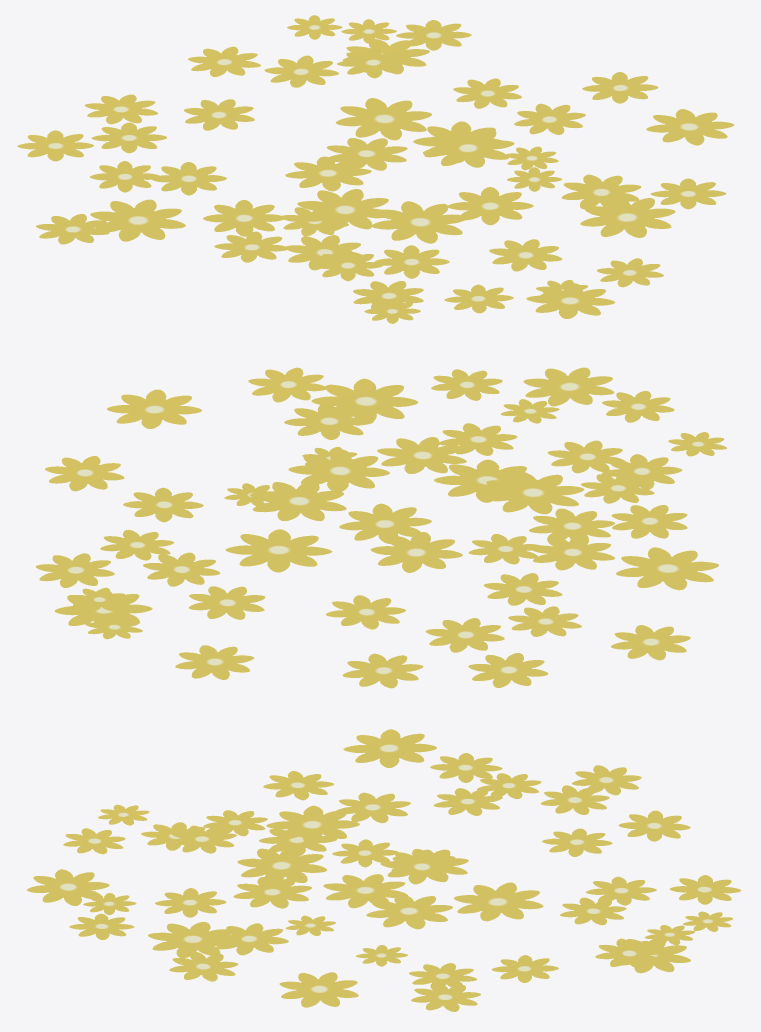
Rendered from Flower_04.fbx.
The picture shows the model from 3 angles, top to bottom: view 1: azimuth 30°, elevation 25°; view 2: azimuth 150°, elevation 25°; view 3: azimuth 270°, elevation 25°; orthographic projection. The views are drawn at different scales.
Parts seen in each view (by area): view 1: Flower_04_LOD0; view 2: Flower_04_LOD0; view 3: Flower_04_LOD0.
Part boxes in pixels (x1,y1,x2,y2): Flower_04_LOD0: (17,15,734,323); Flower_04_LOD0: (35,367,726,688); Flower_04_LOD0: (27,729,741,1011).
Size of what is drawn, in the model's own units: 0.6995 by 0.0416 by 0.749.
